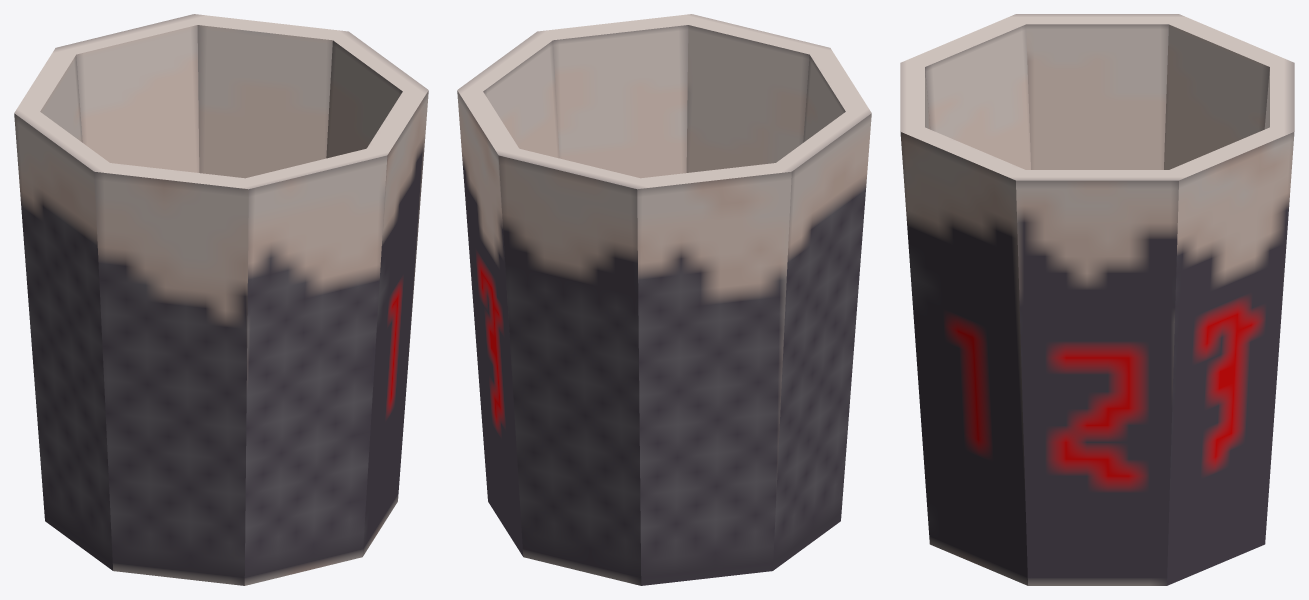
File: trash.fbx
3 renders of one model, left to right at view 1: azimuth 30°, elevation 25°; view 2: azimuth 150°, elevation 25°; view 3: azimuth 270°, elevation 25°, orthographic.
Parts seen in each view (by area): view 1: trash can; view 2: trash can; view 3: trash can.
Part boxes in pixels (bbox=[...]): trash can: bbox=[14, 14, 428, 585]; trash can: bbox=[457, 14, 871, 585]; trash can: bbox=[900, 14, 1294, 585].
Size of the model in its own units: 14.69 by 17.19 by 14.69.
Materials: 1 (1 with a texture image).
